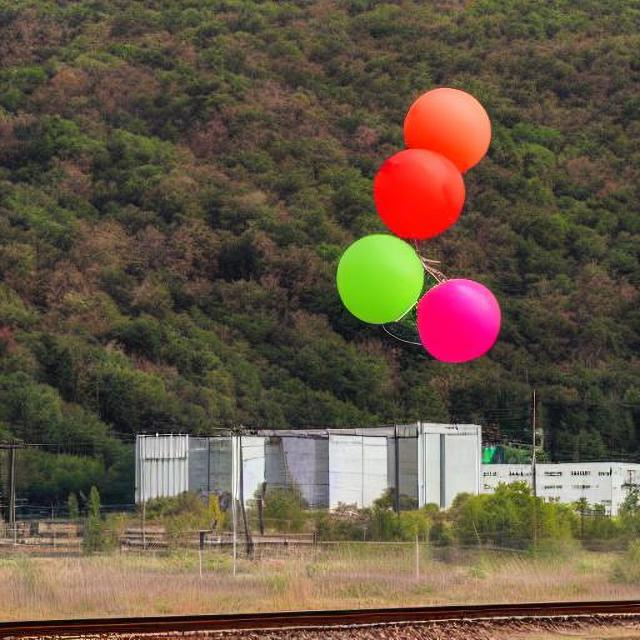balloon: (364, 136, 474, 242), (392, 74, 497, 174), (330, 230, 423, 325), (405, 272, 501, 363)
